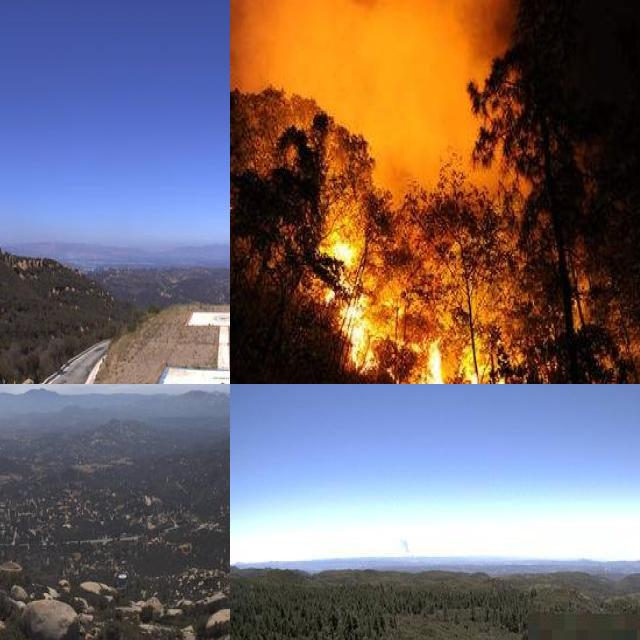fire: (307, 198, 621, 384)
smoke: (230, 0, 536, 191), (393, 534, 413, 560)
